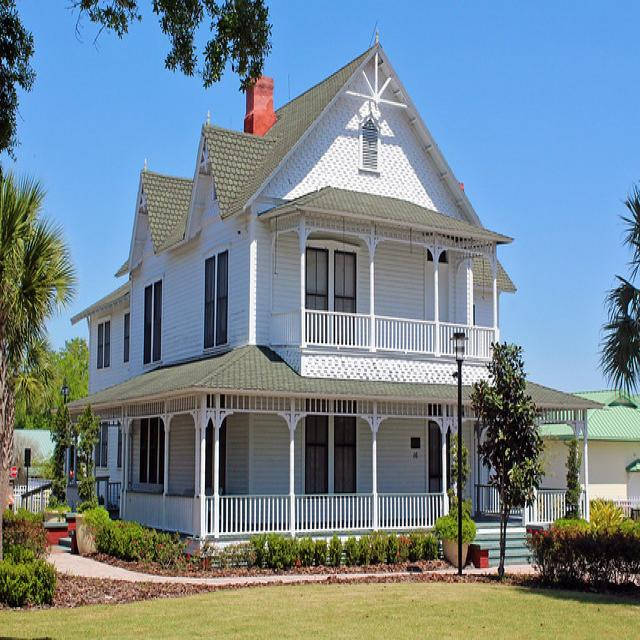Normal_building: (69, 36, 506, 570)
